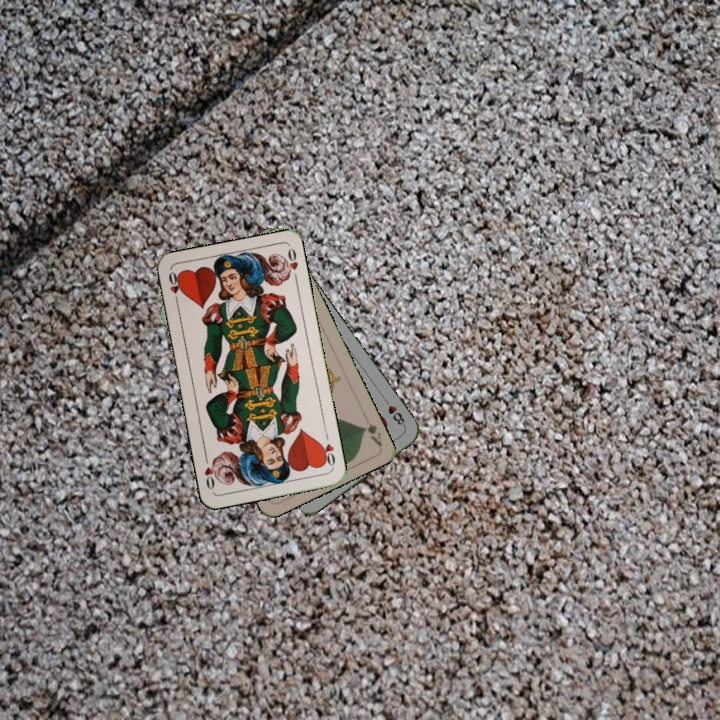GA: (358, 420, 384, 449)
H8: (379, 394, 408, 430)
HO: (316, 429, 338, 470), (164, 267, 184, 308)
